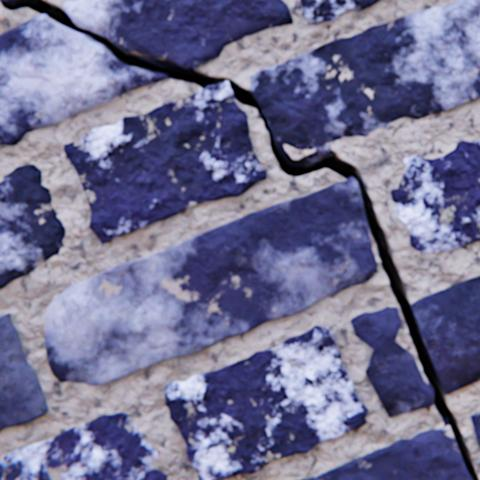brick: (46, 178, 377, 384), (250, 0, 479, 154), (65, 82, 266, 243), (165, 325, 367, 479), (0, 411, 167, 479), (390, 139, 479, 252), (295, 424, 470, 479), (0, 164, 66, 288), (0, 312, 49, 430), (300, 0, 379, 24), (470, 411, 479, 444), (4, 0, 22, 3)
broken_brick: (0, 15, 168, 144), (64, 0, 292, 69), (350, 306, 432, 415), (411, 275, 479, 393)
crack: (1, 0, 478, 479)
